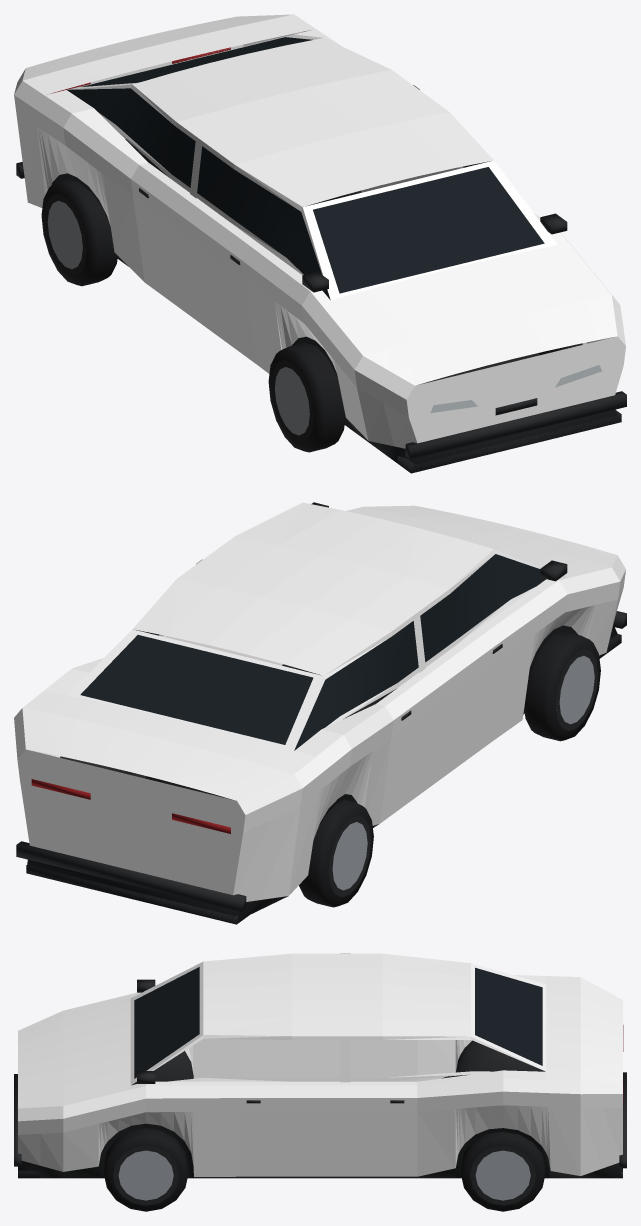
Rendered from varenna_vinco.glb.
3 renders of one model, top to bottom at view 1: azimuth 30°, elevation 25°; view 2: azimuth 150°, elevation 25°; view 3: azimuth 270°, elevation 25°, orthographic. The views are drawn at different scales.
Parts seen in each view (by area): view 1: Body_Paint, Body_Details, Mount_FrontLeft_Wheel_Details, Mount_RearLeft_Wheel_Details; view 2: Body_Paint, Body_Details, Mount_FrontLeft_Wheel_Details, Mount_RearLeft_Wheel_Details; view 3: Body_Paint, Body_Details, Mount_FrontRight_Wheel_Details, Mount_RearRight_Wheel_Details.
Boxes of the visible parts, x1=… form: Body_Paint: x1=14, y1=14, x2=625, y2=448; Body_Details: x1=16, y1=37, x2=626, y2=473; Mount_FrontLeft_Wheel_Details: x1=268, y1=342, x2=345, y2=452; Mount_RearLeft_Wheel_Details: x1=41, y1=179, x2=117, y2=286; Body_Paint: x1=14, y1=502, x2=625, y2=901; Body_Details: x1=16, y1=502, x2=626, y2=924; Mount_FrontLeft_Wheel_Details: x1=524, y1=631, x2=600, y2=741; Mount_RearLeft_Wheel_Details: x1=299, y1=799, x2=373, y2=907; Body_Paint: x1=18, y1=953, x2=622, y2=1176; Body_Details: x1=14, y1=967, x2=626, y2=1178; Mount_FrontRight_Wheel_Details: x1=103, y1=1128, x2=188, y2=1211; Mount_RearRight_Wheel_Details: x1=460, y1=1131, x2=545, y2=1211.
Size of the model in its own units: 1.88 by 1.32 by 4.39.
2 materials, 1 textured.
